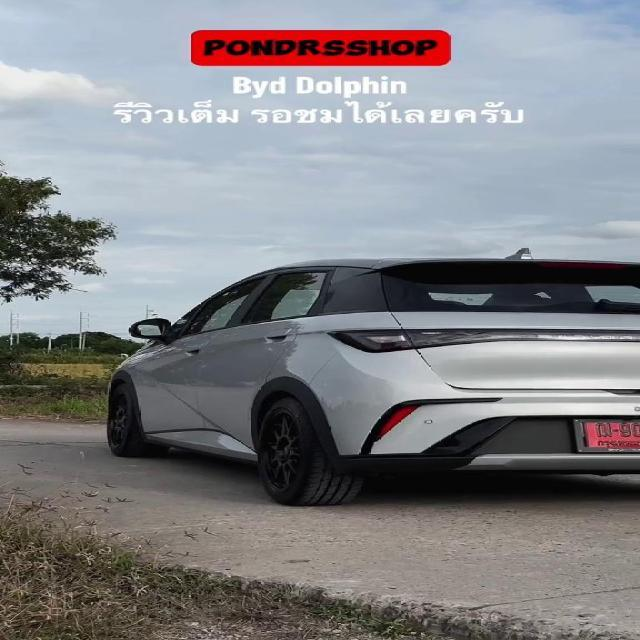Hatchback: (107, 249, 639, 505)
